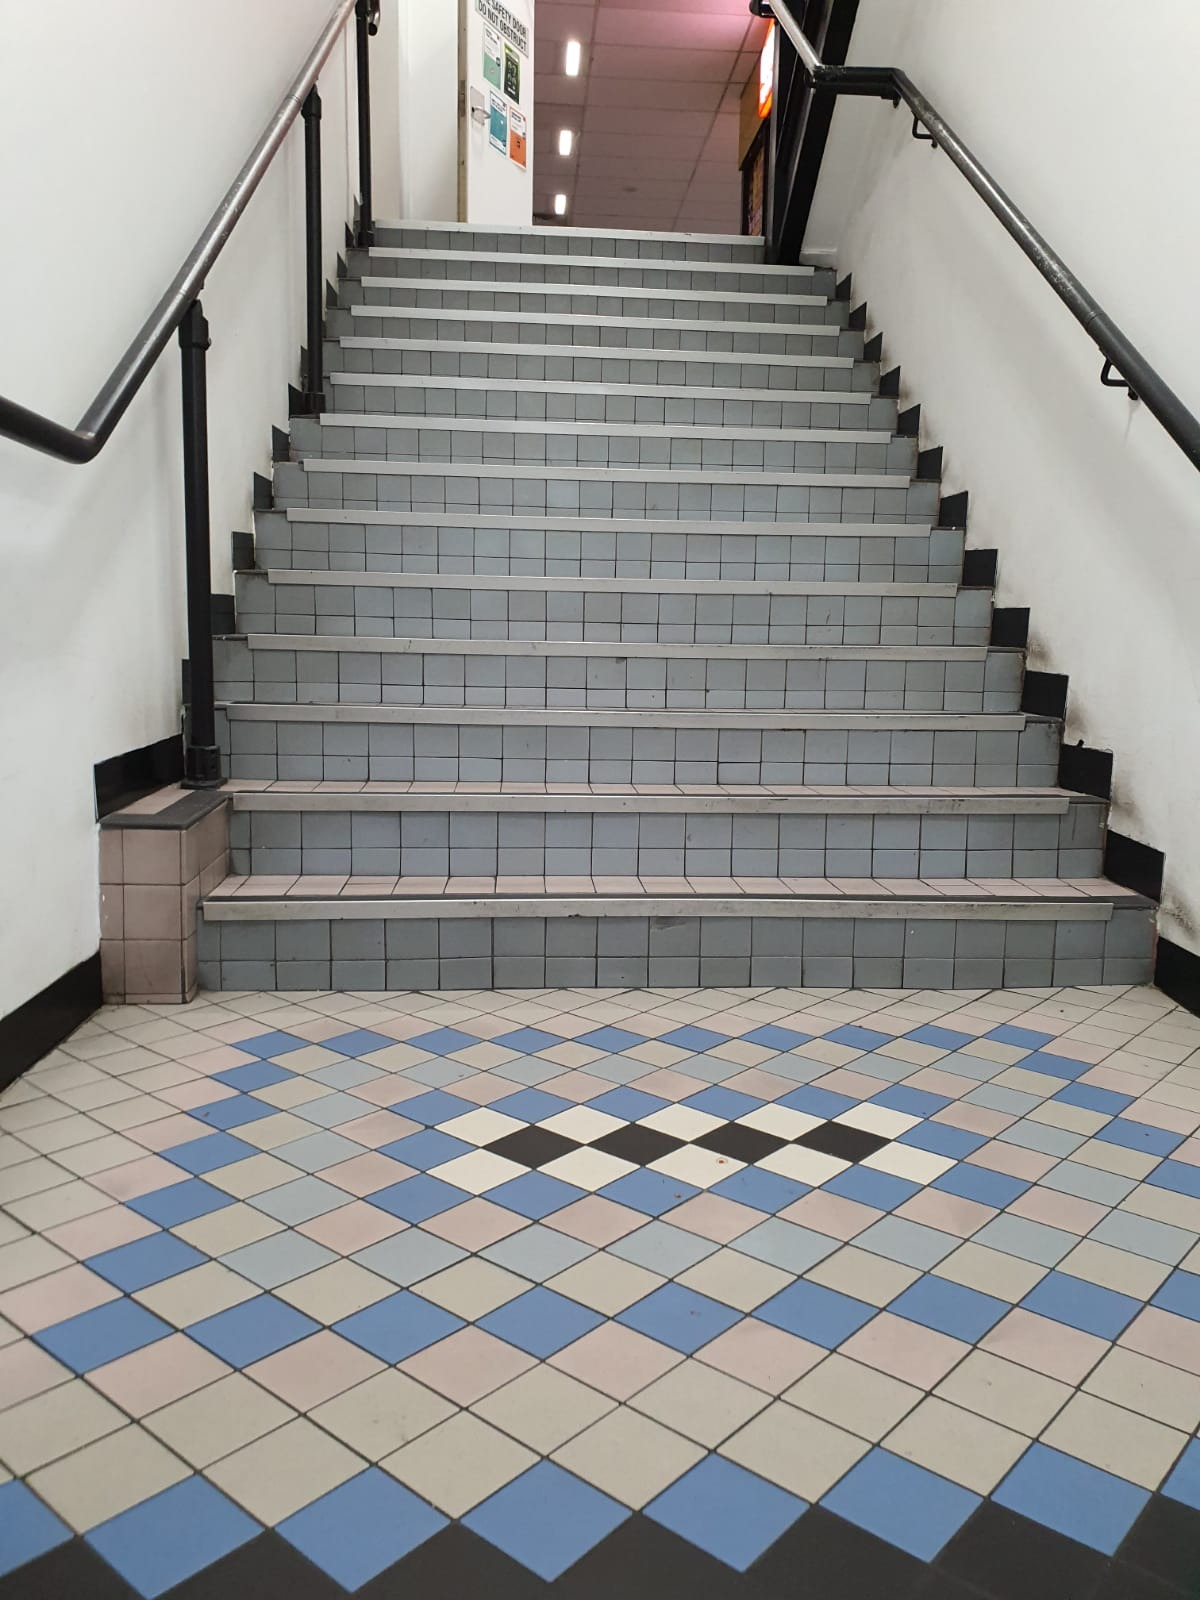upstairs: (275, 668, 1016, 1119)
